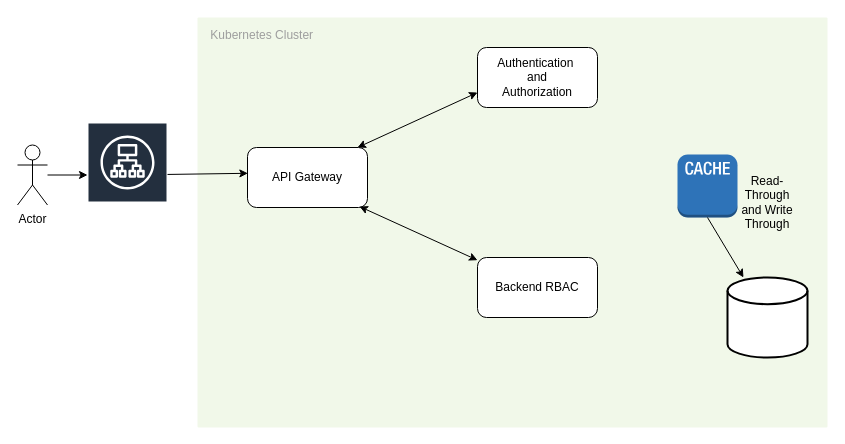
Some shapes in this 845 by 444 pixel diagram are drawn without their labels. Each missing label, with the centre of its shape:
"Application Load Balancer" goes at point (127, 175).
"Postgres DB" goes at point (767, 317).
